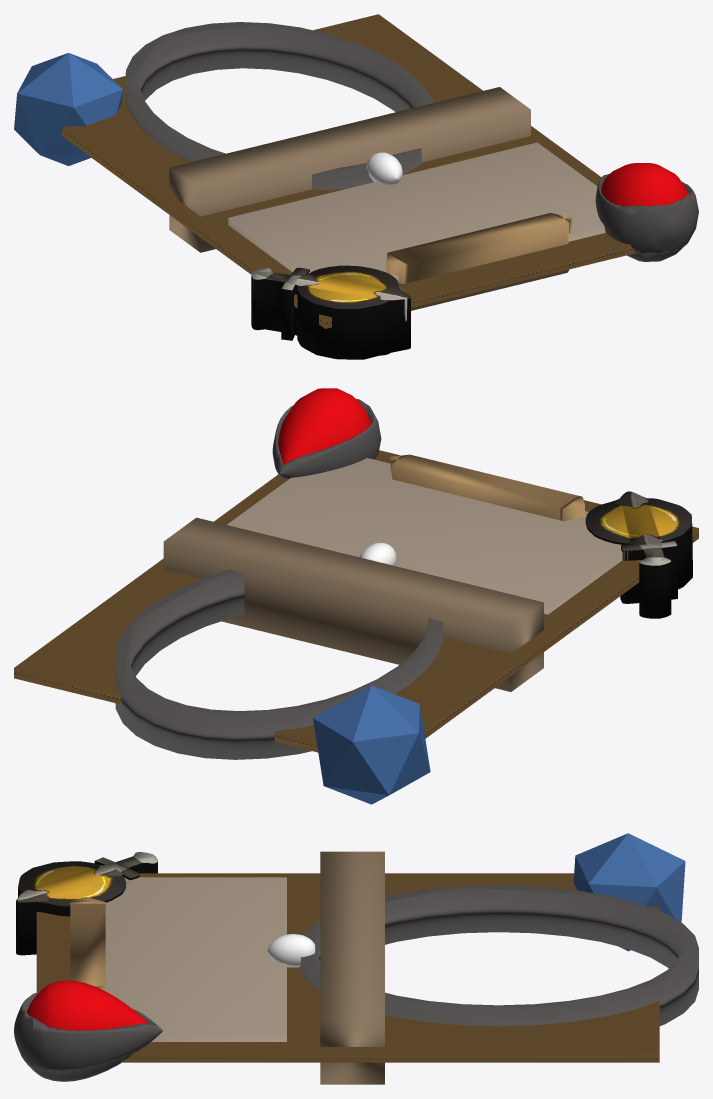
The model's file is minion.glb.
3 views of the same model, one above another, from view 1: azimuth 30°, elevation 25°; view 2: azimuth 150°, elevation 25°; view 3: azimuth 270°, elevation 25° (orthographic). The views are drawn at different scales.
Parts seen in each view (by area): view 1: Text, Card, Name, Frame.002, Attack, Crystal, Tribe, Frame, Health, Rarity; view 2: Name, Text, Card, Frame.002, Crystal, Attack, Tribe, Health, Frame; view 3: Text, Card, Frame.002, Name, Frame, Crystal, Attack, Health, Tribe, Rarity.
Boxes of the visible parts, x1=… form: Text: x1=228, y1=142, x2=605, y2=282; Card: x1=61, y1=14, x2=636, y2=328; Name: x1=169, y1=87, x2=530, y2=252; Frame.002: x1=125, y1=22, x2=433, y2=189; Attack: x1=251, y1=265, x2=410, y2=359; Crystal: x1=14, y1=53, x2=122, y2=165; Tribe: x1=386, y1=213, x2=572, y2=310; Frame: x1=595, y1=173, x2=698, y2=261; Health: x1=601, y1=163, x2=688, y2=206; Rarity: x1=366, y1=152, x2=402, y2=184; Name: x1=163, y1=517, x2=543, y2=691; Text: x1=227, y1=458, x2=622, y2=614; Card: x1=14, y1=450, x2=698, y2=752; Frame.002: x1=115, y1=569, x2=442, y2=759; Crystal: x1=313, y1=685, x2=430, y2=804; Attack: x1=585, y1=491, x2=692, y2=618; Tribe: x1=390, y1=454, x2=584, y2=521; Health: x1=278, y1=388, x2=371, y2=464; Frame: x1=272, y1=399, x2=381, y2=480; Text: x1=105, y1=877, x2=286, y2=1041; Card: x1=36, y1=873, x2=659, y2=1062; Frame.002: x1=299, y1=885, x2=698, y2=1026; Name: x1=320, y1=851, x2=384, y2=1084; Frame: x1=14, y1=992, x2=162, y2=1081; Crystal: x1=573, y1=833, x2=685, y2=951; Attack: x1=16, y1=852, x2=157, y2=955; Health: x1=27, y1=980, x2=148, y2=1030; Tribe: x1=70, y1=897, x2=105, y2=990; Rarity: x1=267, y1=934, x2=315, y2=967.
Bounding box in the file's own units: 3.49 × 0.9949 × 4.94.
9 materials, 1 textured.
